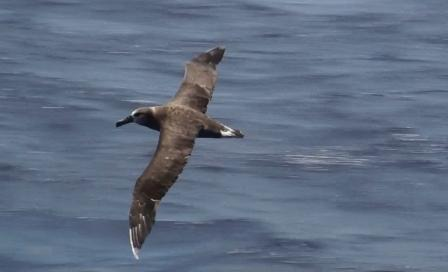001.Black_footed_Albatross: (116, 45, 244, 261)
